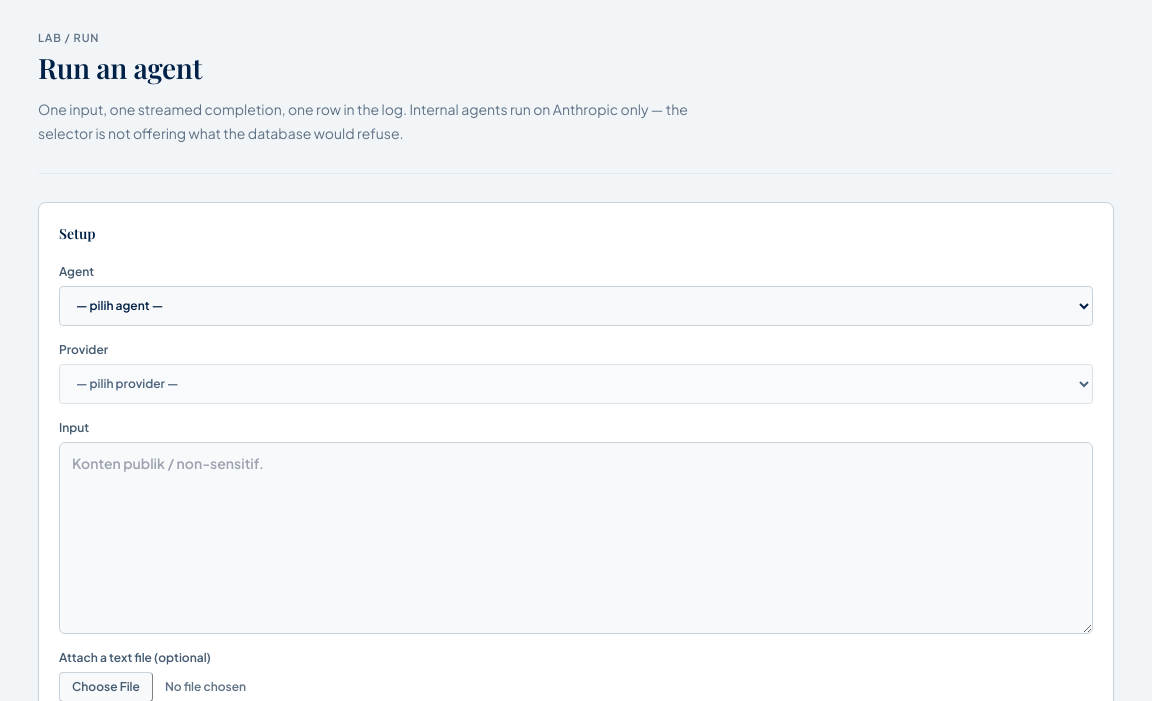
Test: §2 the run screen provider selector › leaves the selector open for a public agent
Select "CEO Briefing Deck (public)" in the dropdown labelled "Agent": (576, 306) left=59, top=286, right=1093, bottom=326
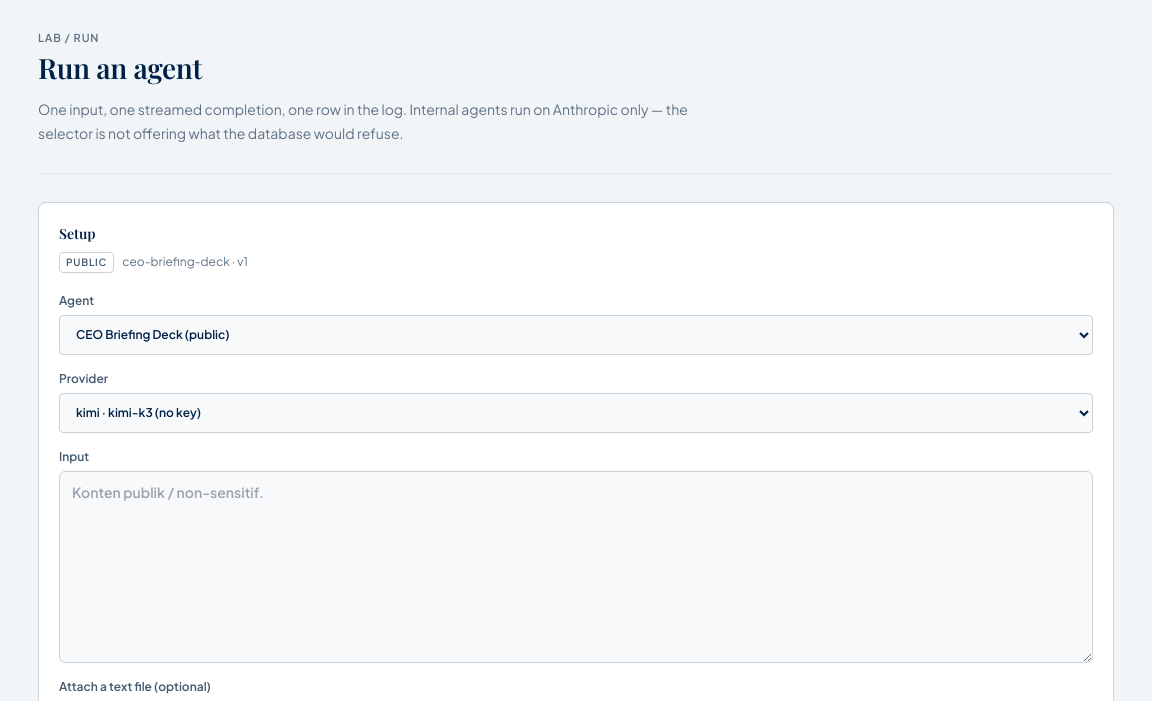
Now the dropdown labelled "Provider" is enabled, box left=59, top=393, right=1093, bottom=433
